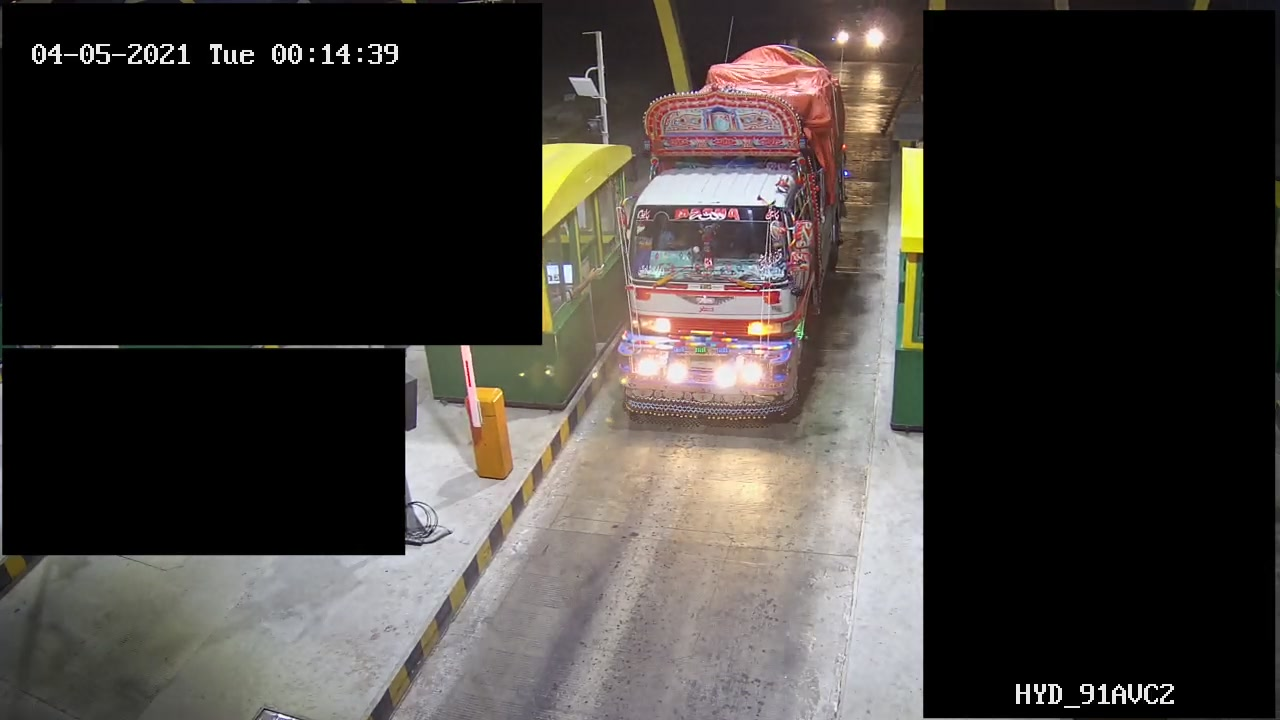F5: (602, 41, 873, 430)
